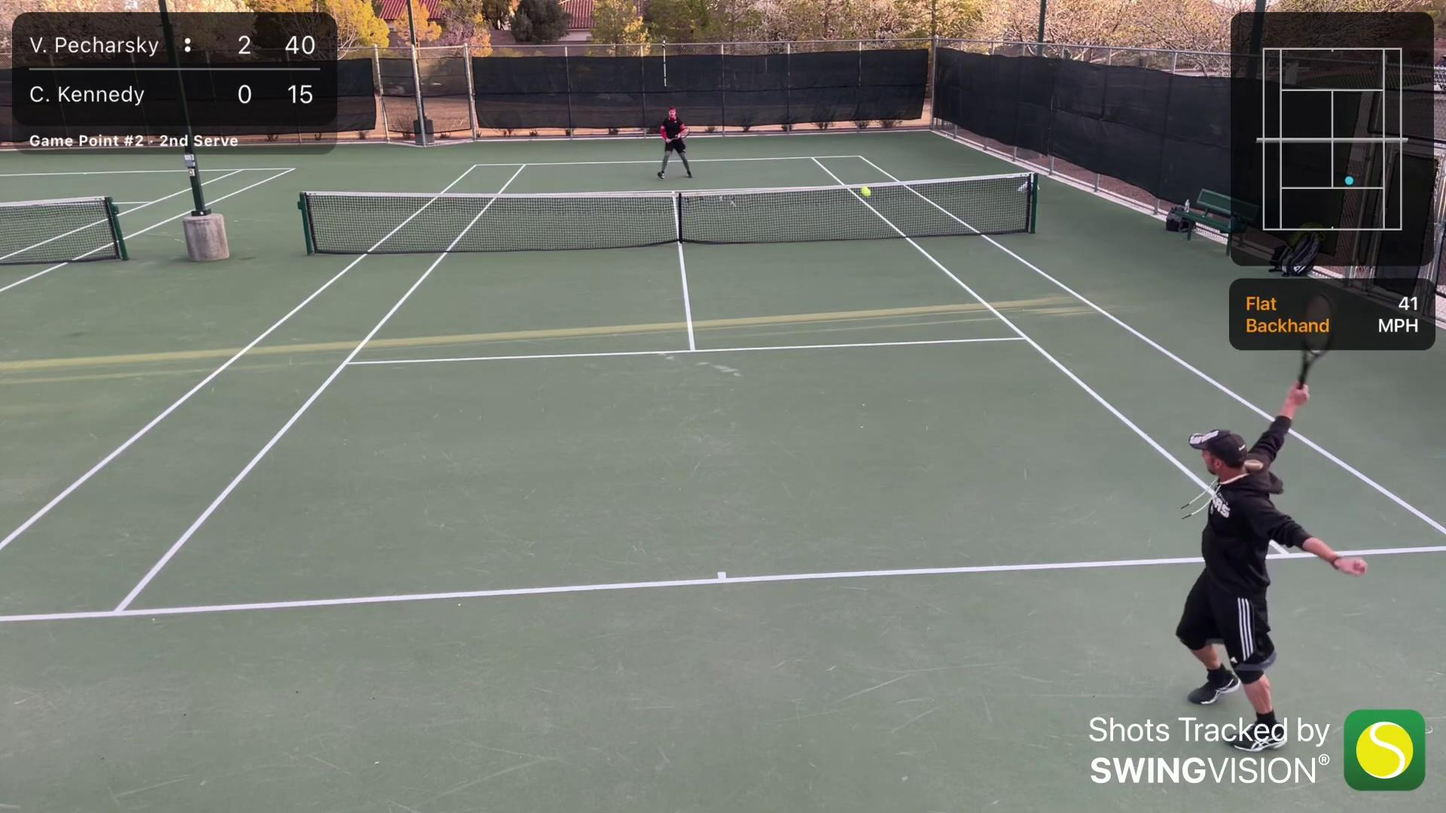ball: (859, 183, 874, 199)
